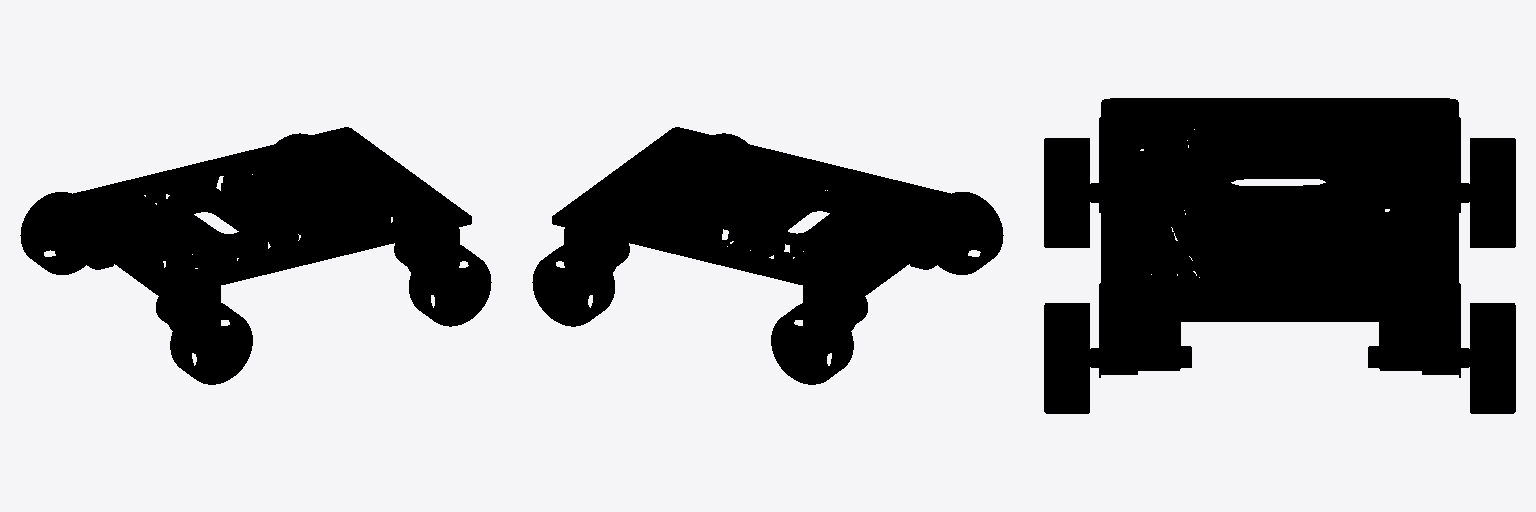
The robot description file, URDF, robot "rikirobot_urdf":
<robot
  name="rikirobot_urdf">
  <link
    name="base_link">
    <inertial>
      <origin
        xyz="0.000696188967146645 0.163272021227987 -0.000607217382858456"
        rpy="0 0 0" />
      <mass
        value="0.660191000507613" />
      <inertia
        ixx="0.00567975310417273"
        ixy="-9.77470734692922E-06"
        ixz="-2.68154002028894E-07"
        iyy="0.0126223384503646"
        iyz="6.06006073177121E-06"
        izz="0.00757120415744098" />
    </inertial>
    <visual>
      <origin
        xyz="0 0 0"
        rpy="0 0 0" />
      <geometry>
        <mesh
          filename="package://rikirobot_urdf/meshes/base_link.STL" />
      </geometry>
      <material
        name="">
        <color
          rgba="0 0 0 1" />
      </material>
    </visual>
    <collision>
      <origin
        xyz="0 0 0"
        rpy="0 0 0" />
      <geometry>
        <mesh
          filename="package://rikirobot_urdf/meshes/base_link.STL" />
      </geometry>
    </collision>
  </link>
</robot>

--- What the picture shows (computed from the rendered views, not written in the file) ---
3 views of the same robot in one strip: view 1: azimuth 30°, elevation 25°; view 2: azimuth 150°, elevation 25°; view 3: azimuth 270°, elevation 25° (orthographic).
Robot: rikirobot_urdf — 1 links, 0 joints (none); root link base_link; default pose: every joint at zero.
Links seen in each view (by area): view 1: base_link; view 2: base_link; view 3: base_link.
Boxes of the visible links, x1,y1,x2,y2 form: base_link: (20,127,491,384); base_link: (532,127,1003,384); base_link: (1044,98,1515,413).
Bounding box of the posed robot: 0.3 × 0.277 × 0.0775 m (x, y, z).
Meshes: 1 distinct files referenced, 1 mesh visuals loaded (1 binary STL).
